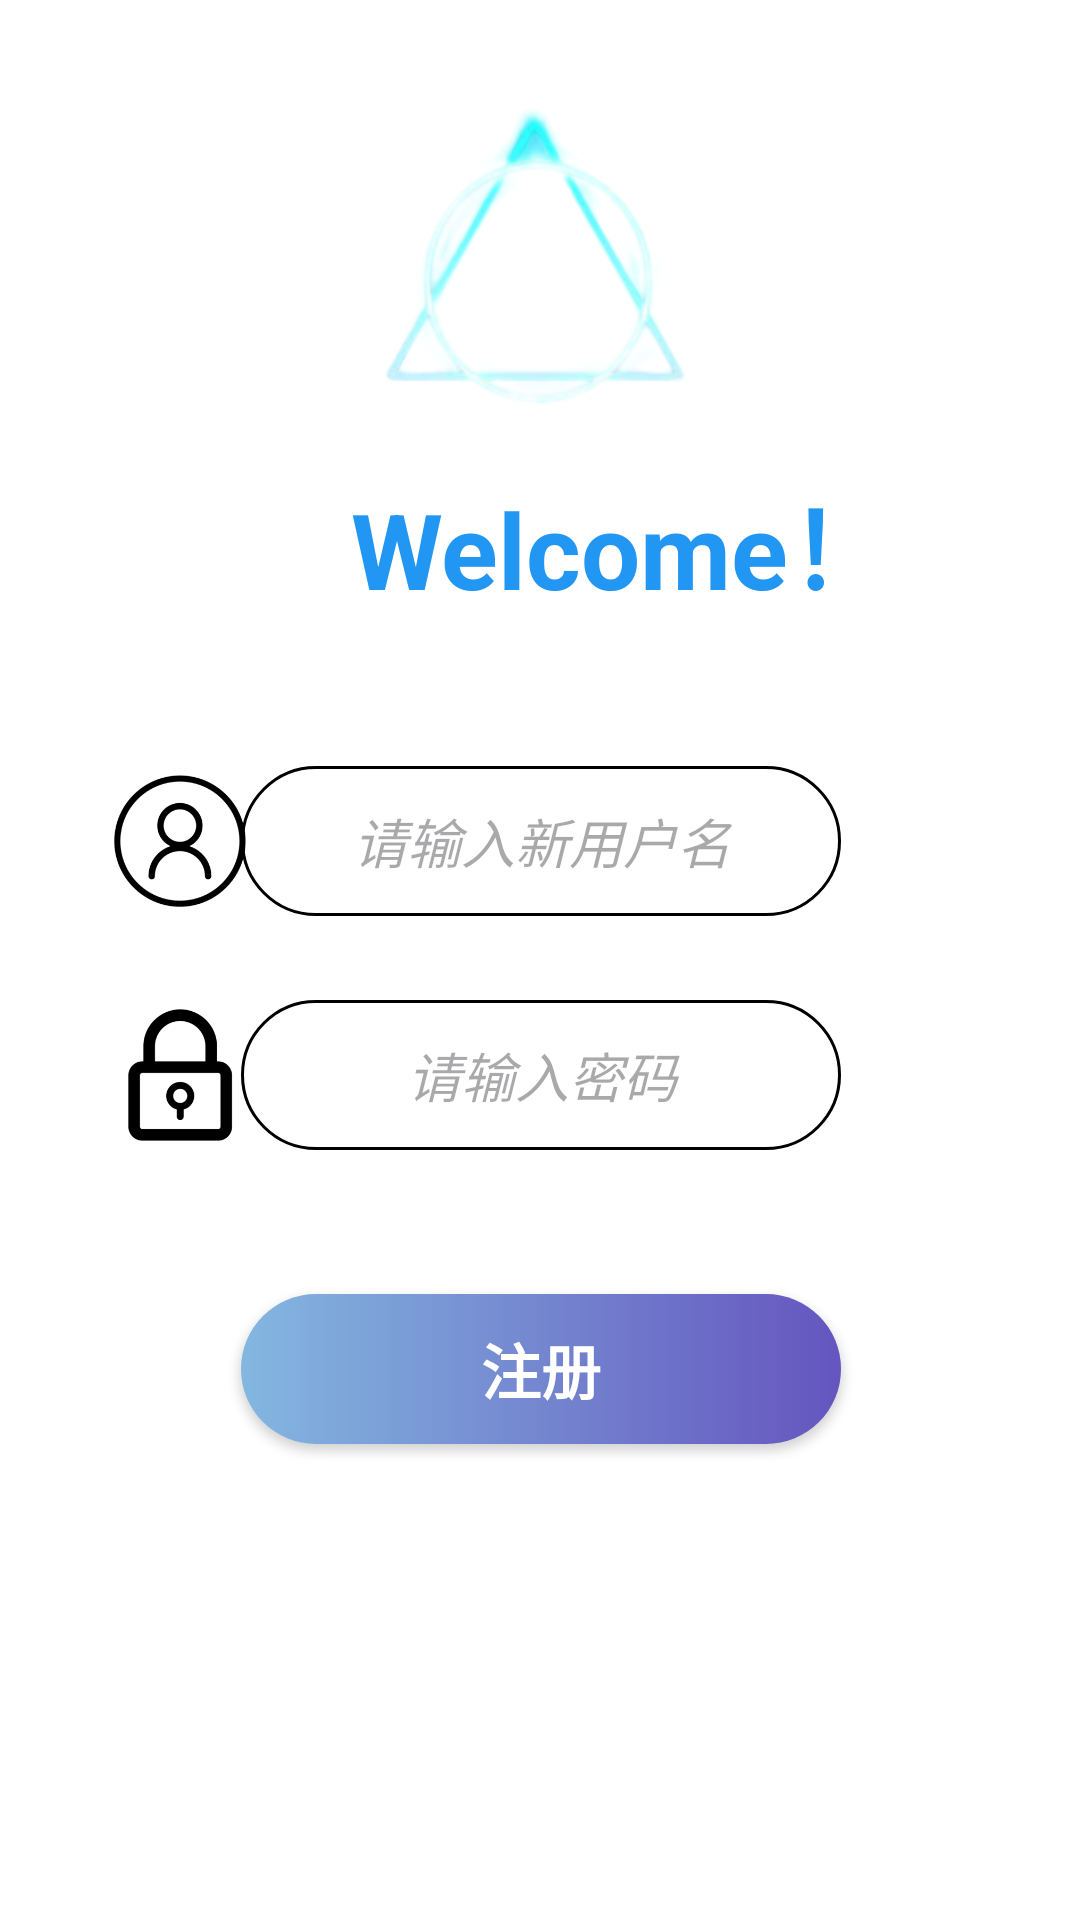

Icon click points for this 1080x1920 phone screenshot, format (x=x, y=y):
password: (x=180, y=1075)
